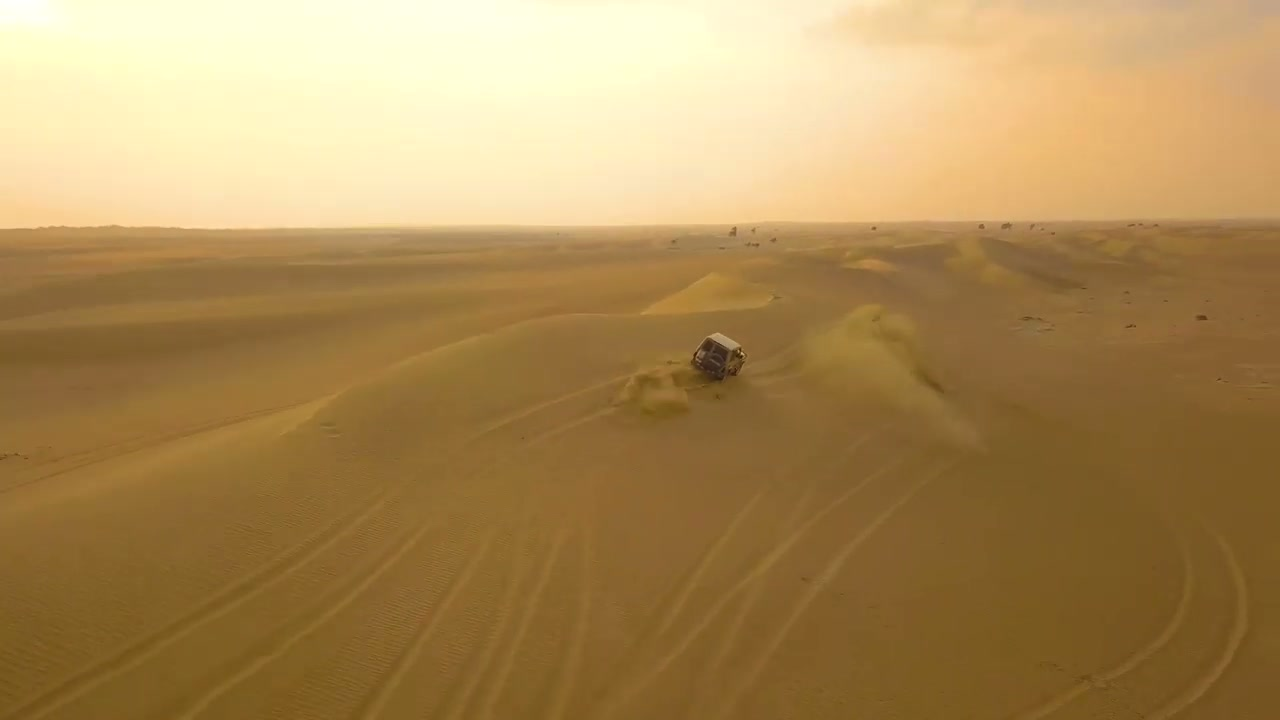vehicle_track: (0, 479, 410, 719), (4, 490, 390, 719), (599, 457, 904, 716), (703, 461, 955, 719), (174, 526, 430, 719), (1012, 529, 1198, 719), (1011, 530, 1197, 719), (0, 402, 304, 493), (353, 532, 493, 719), (604, 499, 750, 677), (1145, 526, 1249, 719), (439, 519, 528, 719), (471, 532, 565, 718), (656, 487, 766, 633), (467, 374, 631, 440), (690, 575, 765, 717), (545, 523, 594, 719), (524, 407, 617, 447)
